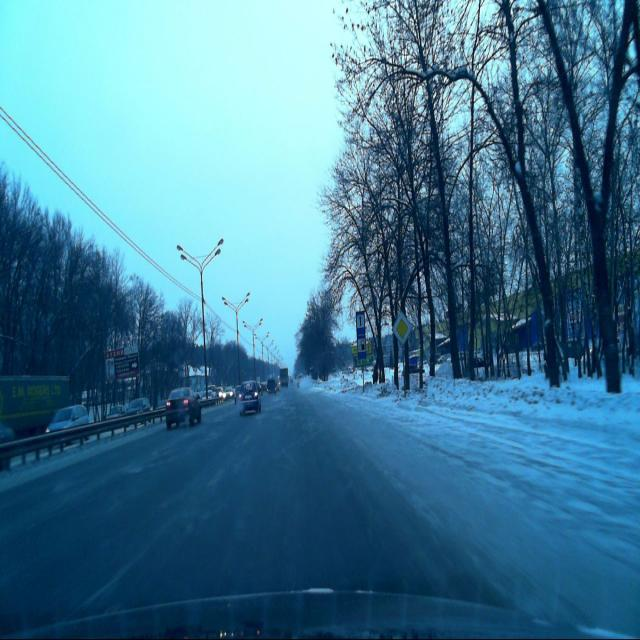object: (402, 344, 407, 402), (364, 362, 365, 396)
road sign: (392, 310, 410, 345), (356, 336, 366, 359), (356, 310, 365, 335)
